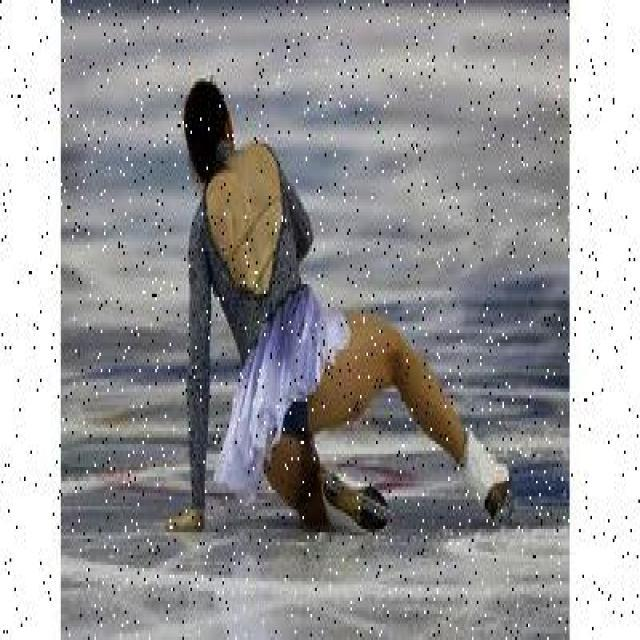fall: (160, 88, 502, 542)
